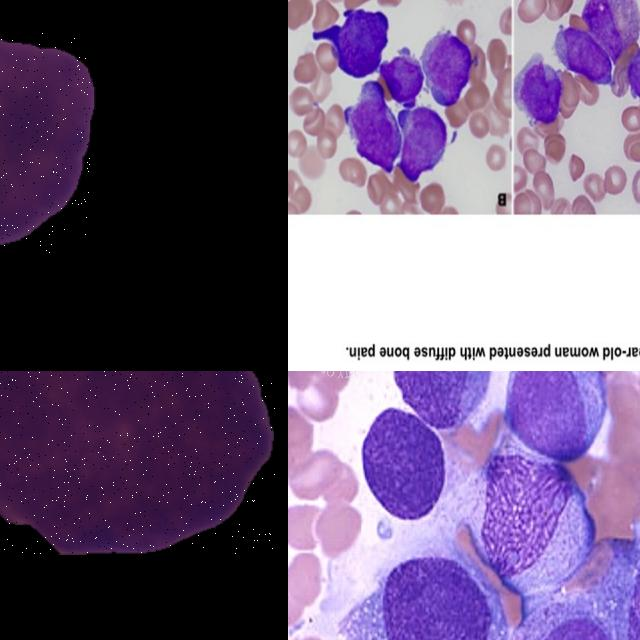ALL Negative Cells: (0, 33, 90, 239)
ALL Positive Cell: (0, 371, 276, 554), (358, 408, 449, 521), (396, 371, 490, 429), (342, 81, 400, 172), (317, 12, 393, 80), (546, 23, 611, 82), (399, 107, 450, 178), (420, 37, 470, 106), (512, 59, 562, 124), (382, 56, 425, 108), (627, 40, 640, 105)
